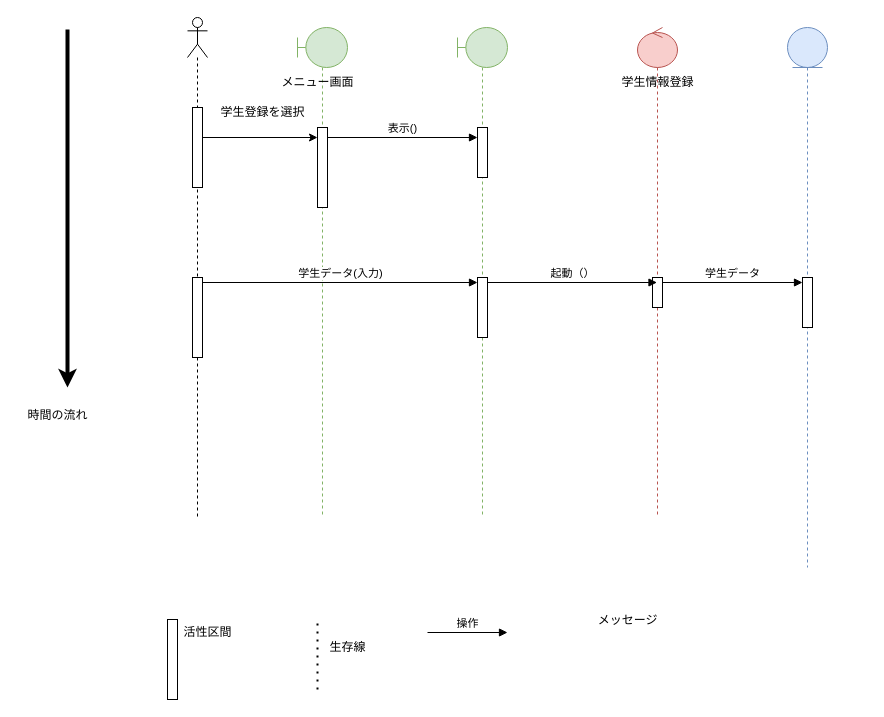
The diagram is 884 pixels wide and 717 high, and some of its shapes have lost their labels. The centre of each missing label's shape, as x and y in pixels:
"学生オブジェクト" belongs at (x=807, y=297).
"学生登録画面" belongs at (x=482, y=272).
